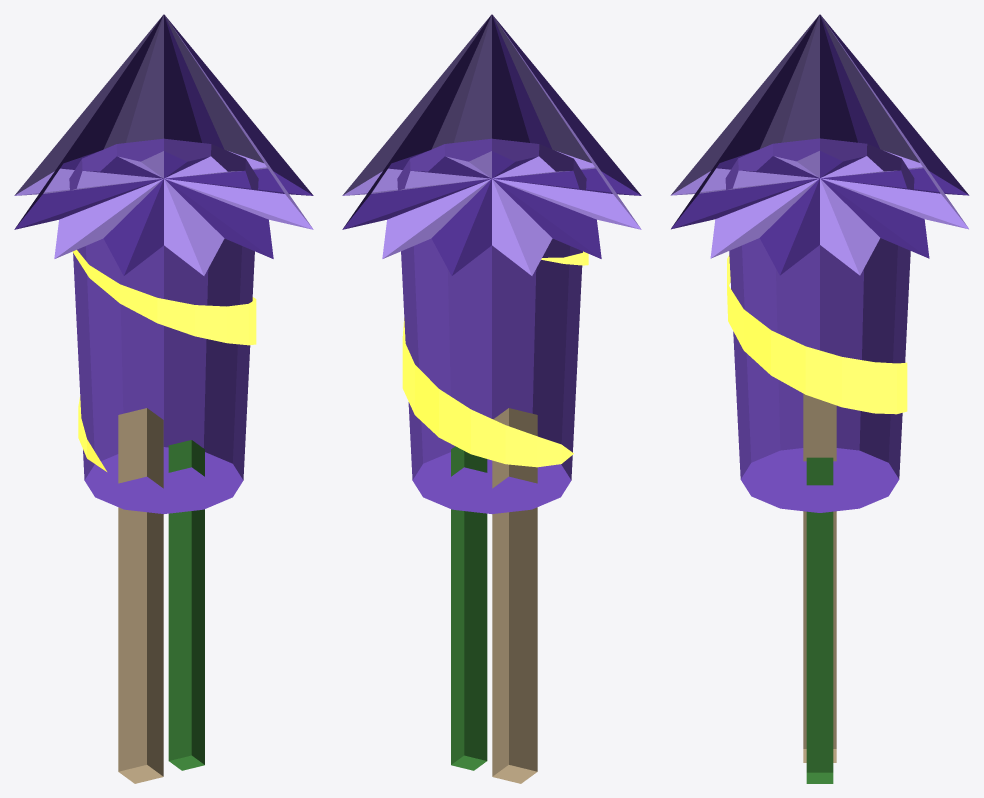
The model's file is rocket_violet.glb.
The picture shows the model from 3 angles, left to right: view 1: azimuth 30°, elevation 25°; view 2: azimuth 150°, elevation 25°; view 3: azimuth 270°, elevation 25°; orthographic projection.
Parts seen in each view (by area): view 1: body, fan_a, fan_b, stick, fuse, emblem; view 2: body, fan_a, fan_b, stick, fuse, emblem; view 3: body, fan_a, fan_b, emblem, fuse, stick.
Part boxes in pixels (<box>): body: <box>69,138,258,513</box>; fan_a: <box>14,14,313,275</box>; fan_b: <box>14,14,313,275</box>; stick: <box>118,408,163,783</box>; fuse: <box>168,440,204,770</box>; emblem: <box>72,250,256,471</box>; body: <box>397,138,586,513</box>; fan_a: <box>342,14,641,275</box>; fan_b: <box>342,14,641,275</box>; stick: <box>492,408,537,783</box>; fuse: <box>451,446,487,770</box>; emblem: <box>402,251,588,467</box>; body: <box>725,138,914,512</box>; fan_a: <box>671,14,969,275</box>; fan_b: <box>670,14,968,275</box>; emblem: <box>727,255,907,414</box>; fuse: <box>806,457,833,783</box>; stick: <box>803,393,836,762</box>.
Bounding box in the file's own units: 0.396 × 1.1 × 0.396.
